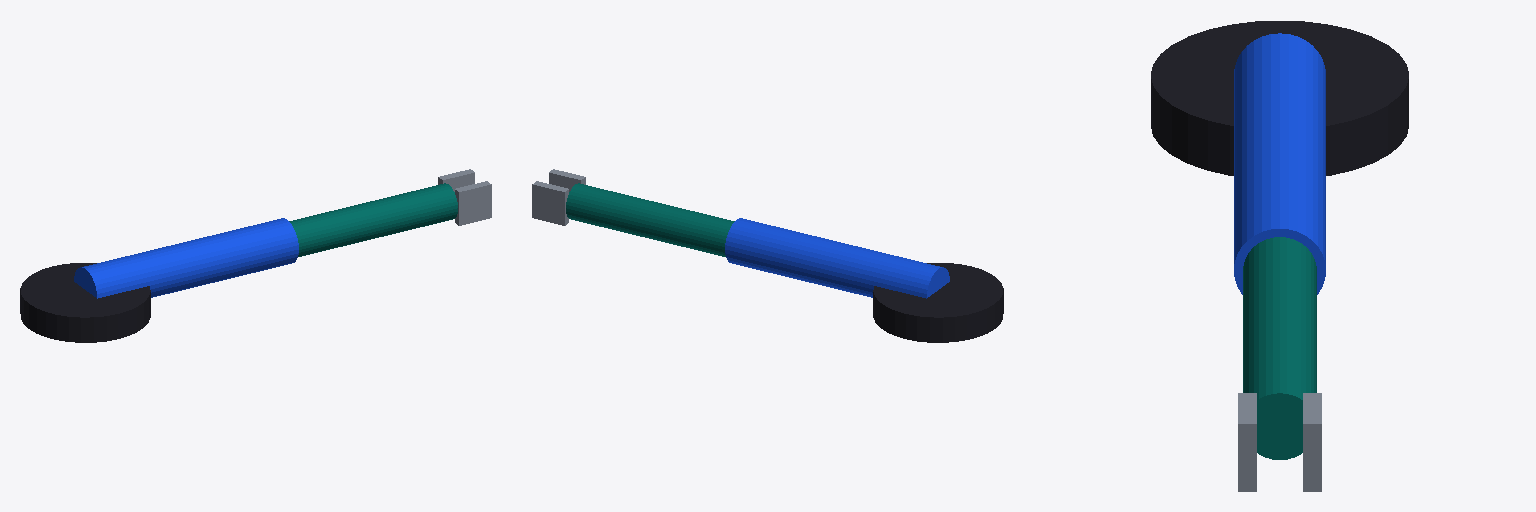
The robot description file, URDF, robot "test-arm":
<?xml version="1.0"?>
<robot name="test-arm">
  <material name="base">
    <color rgba="0.16 0.16 0.19 1"/>
  </material>
  <material name="blue">
    <color rgba="0.15 0.39 0.92 1"/>
  </material>
  <material name="teal">
    <color rgba="0.06 0.46 0.43 1"/>
  </material>
  <material name="steel">
    <color rgba="0.55 0.58 0.63 1"/>
  </material>

  <link name="base_link">
    <visual>
      <origin xyz="0 0 0.03" rpy="0 0 0"/>
      <geometry>
        <cylinder radius="0.14" length="0.06"/>
      </geometry>
      <material name="base"/>
    </visual>
  </link>

  <link name="link_1">
    <visual>
      <origin xyz="0.25 0 0" rpy="0 1.5708 0"/>
      <geometry>
        <cylinder radius="0.05" length="0.5"/>
      </geometry>
      <material name="blue"/>
    </visual>
  </link>

  <link name="link_2">
    <visual>
      <origin xyz="0.2 0 0" rpy="0 1.5708 0"/>
      <geometry>
        <cylinder radius="0.04" length="0.4"/>
      </geometry>
      <material name="teal"/>
    </visual>
  </link>

  <link name="gripper">
    <visual>
      <origin xyz="0.04 0.035 0" rpy="0 0 0"/>
      <geometry>
        <box size="0.08 0.02 0.08"/>
      </geometry>
      <material name="steel"/>
    </visual>
    <visual>
      <origin xyz="0.04 -0.035 0" rpy="0 0 0"/>
      <geometry>
        <box size="0.08 0.02 0.08"/>
      </geometry>
      <material name="steel"/>
    </visual>
  </link>

  <joint name="base_to_link_1" type="revolute">
    <parent link="base_link"/>
    <child link="link_1"/>
    <origin xyz="0 0 0.06" rpy="0 0 0"/>
    <axis xyz="0 0 1"/>
    <limit lower="-2.6" upper="2.6" effort="20" velocity="2"/>
  </joint>

  <joint name="link_1_to_link_2" type="revolute">
    <parent link="link_1"/>
    <child link="link_2"/>
    <origin xyz="0.5 0 0" rpy="0 0 0"/>
    <axis xyz="0 0 1"/>
    <limit lower="-2.2" upper="2.2" effort="15" velocity="2"/>
  </joint>

  <joint name="link_2_to_gripper" type="fixed">
    <parent link="link_2"/>
    <child link="gripper"/>
    <origin xyz="0.4 0 0" rpy="0 0 0"/>
  </joint>
</robot>

--- What the picture shows (computed from the rendered views, not written in the file) ---
The picture shows the robot from 3 angles, left to right: view 1: azimuth 30°, elevation 25°; view 2: azimuth 150°, elevation 25°; view 3: azimuth 270°, elevation 25°; orthographic projection.
Robot: test-arm — 4 links, 3 joints (2 revolute, 1 fixed); root link base_link; default pose: every joint at zero.
Links seen in each view (by area): view 1: link_1, base_link, link_2, gripper; view 2: link_1, base_link, link_2, gripper; view 3: base_link, link_1, link_2, gripper.
Boxes of the visible links, box(x1,y1,x2,y2) form: link_1: box(74, 218, 298, 298); base_link: box(20, 263, 150, 342); link_2: box(289, 183, 457, 256); gripper: box(438, 169, 491, 225); link_1: box(725, 218, 949, 298); base_link: box(873, 263, 1003, 342); link_2: box(566, 183, 734, 256); gripper: box(532, 169, 585, 225); base_link: box(1151, 21, 1408, 175); link_1: box(1234, 33, 1325, 294); link_2: box(1243, 237, 1316, 459); gripper: box(1238, 393, 1321, 491).
Size in the robot's own frame: 1.12 by 0.28 by 0.11 metres.
Geometry: primitives only (box / cylinder / sphere), no mesh files.
